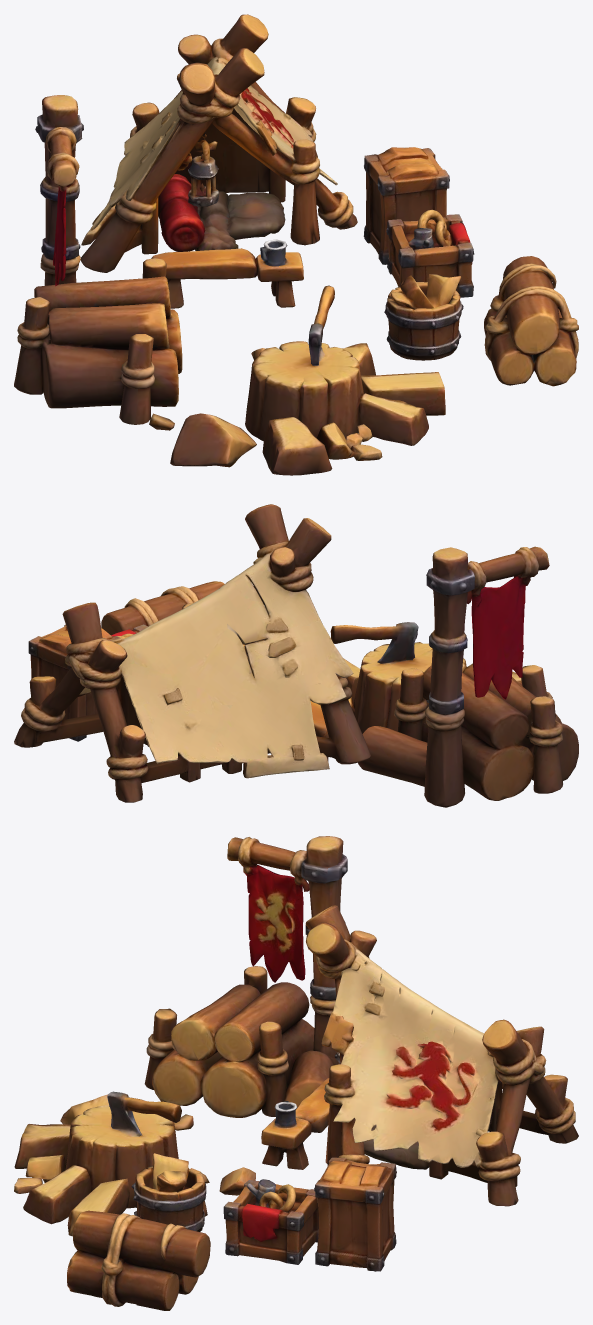
File: wooden camp scene 3d model.glb
3 renders of one model, top to bottom at view 1: azimuth 30°, elevation 25°; view 2: azimuth 150°, elevation 25°; view 3: azimuth 270°, elevation 25°, orthographic. The views are drawn at different scales.
Visible parts, largest first — view 1: tripo_node_36c52571-357b-4cff-8c9e-9c24861b66c6; view 2: tripo_node_36c52571-357b-4cff-8c9e-9c24861b66c6; view 3: tripo_node_36c52571-357b-4cff-8c9e-9c24861b66c6.
Part boxes in pixels (x1,y1,x2,y2): tripo_node_36c52571-357b-4cff-8c9e-9c24861b66c6: (14,14,578,475); tripo_node_36c52571-357b-4cff-8c9e-9c24861b66c6: (14,504,578,807); tripo_node_36c52571-357b-4cff-8c9e-9c24861b66c6: (14,836,578,1310).
Size of the model in its own units: 1 by 0.548 by 0.9967.
Materials: 1 (1 with a texture image).
